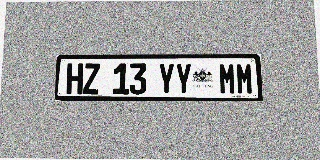1: (112, 63, 129, 94)
3: (130, 63, 146, 94)
H: (66, 63, 83, 94)
M: (236, 63, 254, 95), (219, 63, 236, 95)
Y: (158, 63, 175, 94), (175, 63, 192, 94)
Z: (83, 63, 100, 94)
